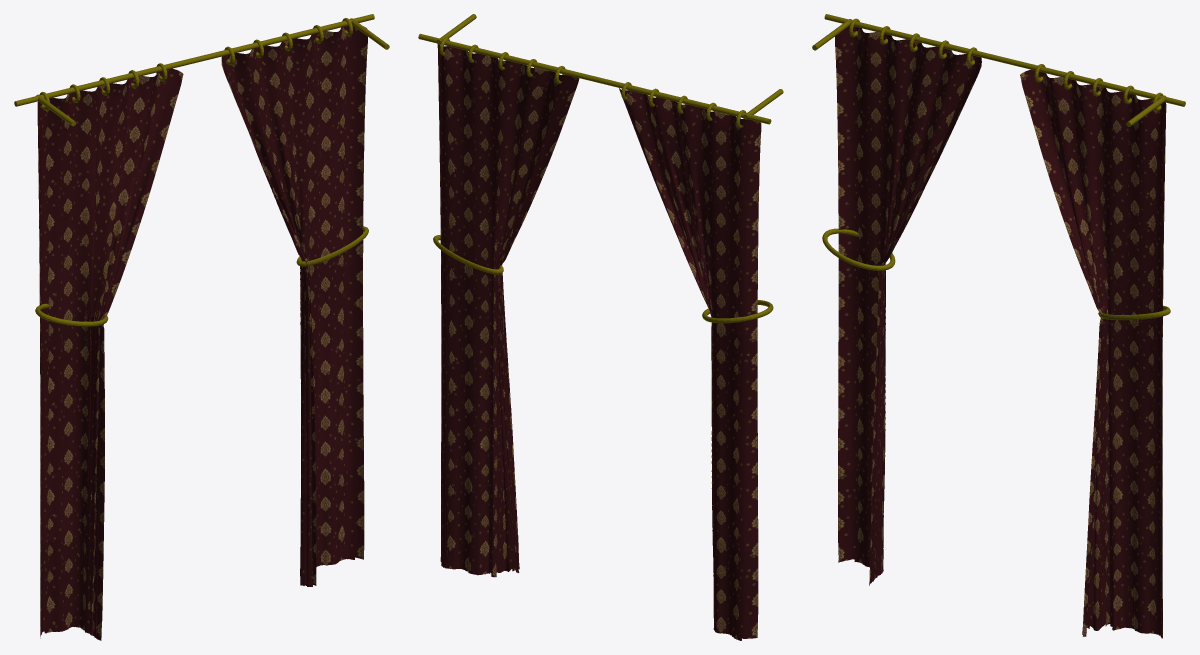
The model's file is curtine_open.fbx.
3 renders of one model, left to right at view 1: azimuth 30°, elevation 25°; view 2: azimuth 150°, elevation 25°; view 3: azimuth 330°, elevation 25°, orthographic. The views are drawn at different scales.
Visible parts, largest first — view 1: Cylinder.001; view 2: Cylinder.001; view 3: Cylinder.001.
Part boxes in pixels (x1,y1,x2,y2): Cylinder.001: (14, 14, 389, 640); Cylinder.001: (418, 14, 783, 640); Cylinder.001: (812, 14, 1185, 638).
Size of the model in its own units: 0.3718 by 1.94 by 2.81.
